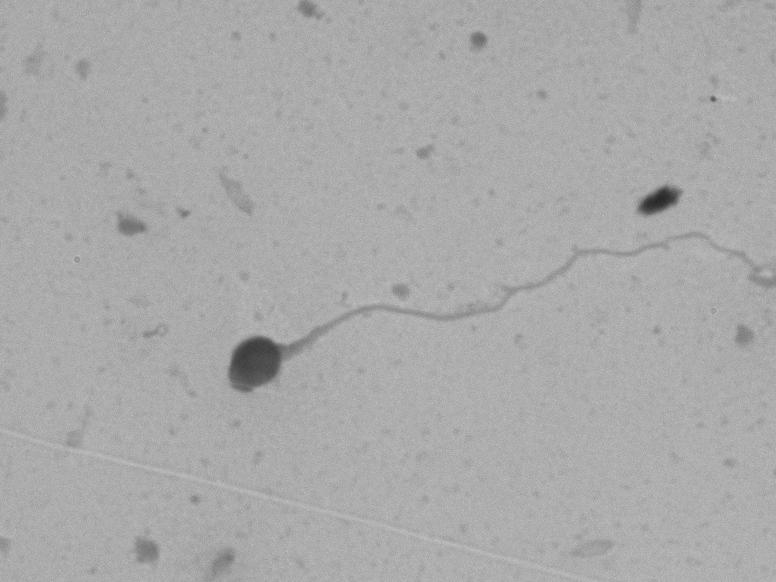Abnormal: (192, 222, 765, 434)
